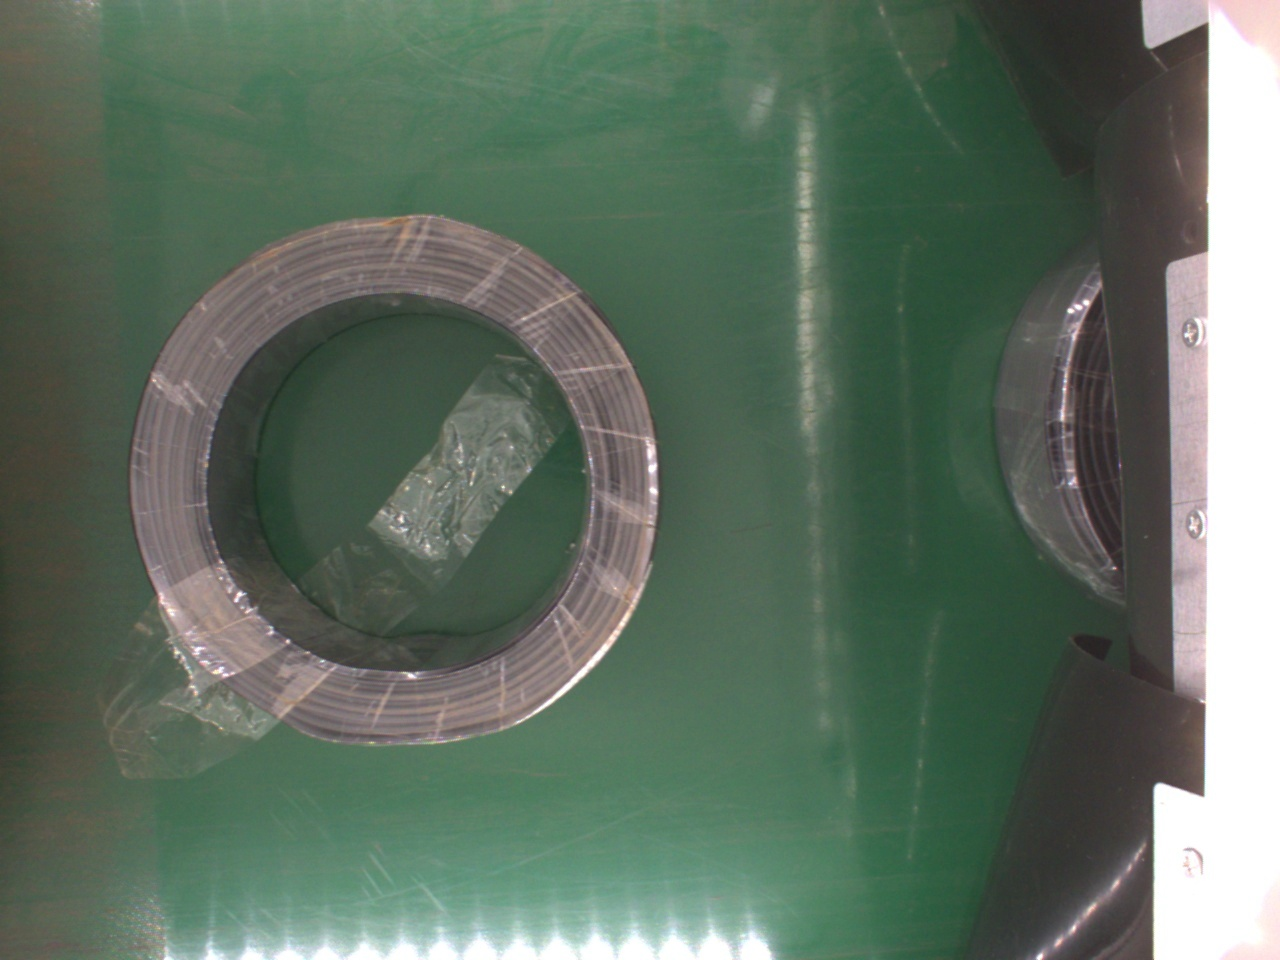black: (123, 218, 660, 744), (996, 232, 1132, 612)
